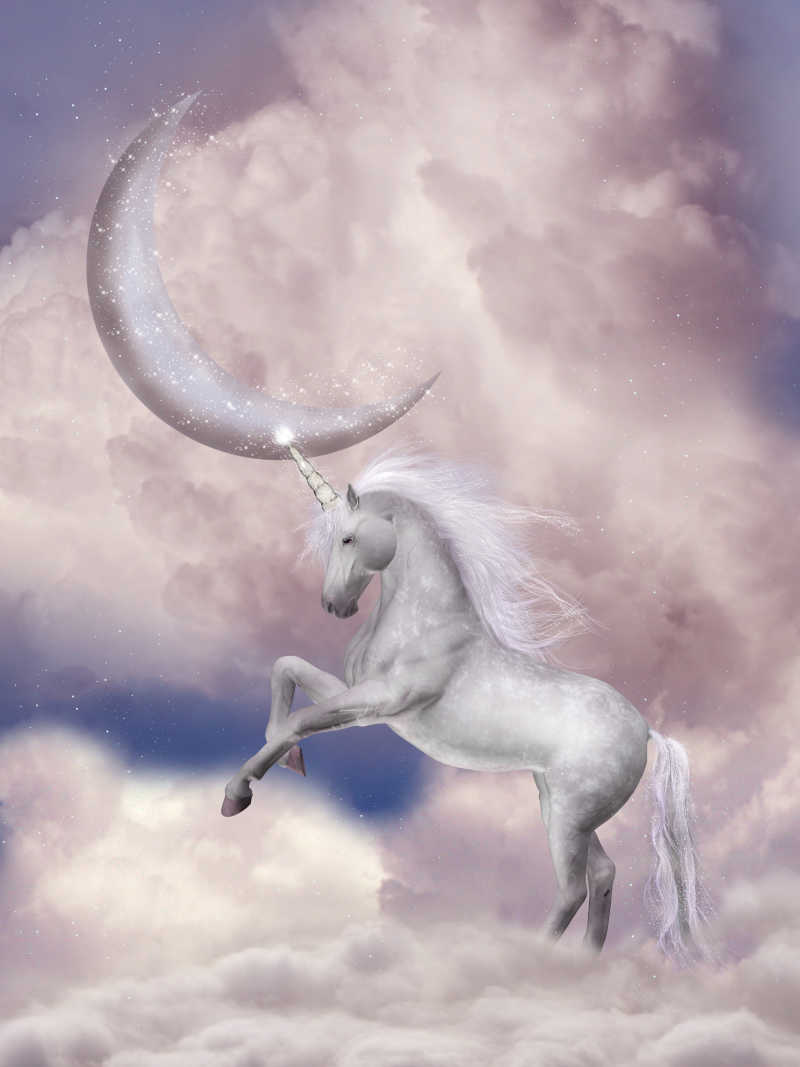background: (197, 393, 726, 958)
